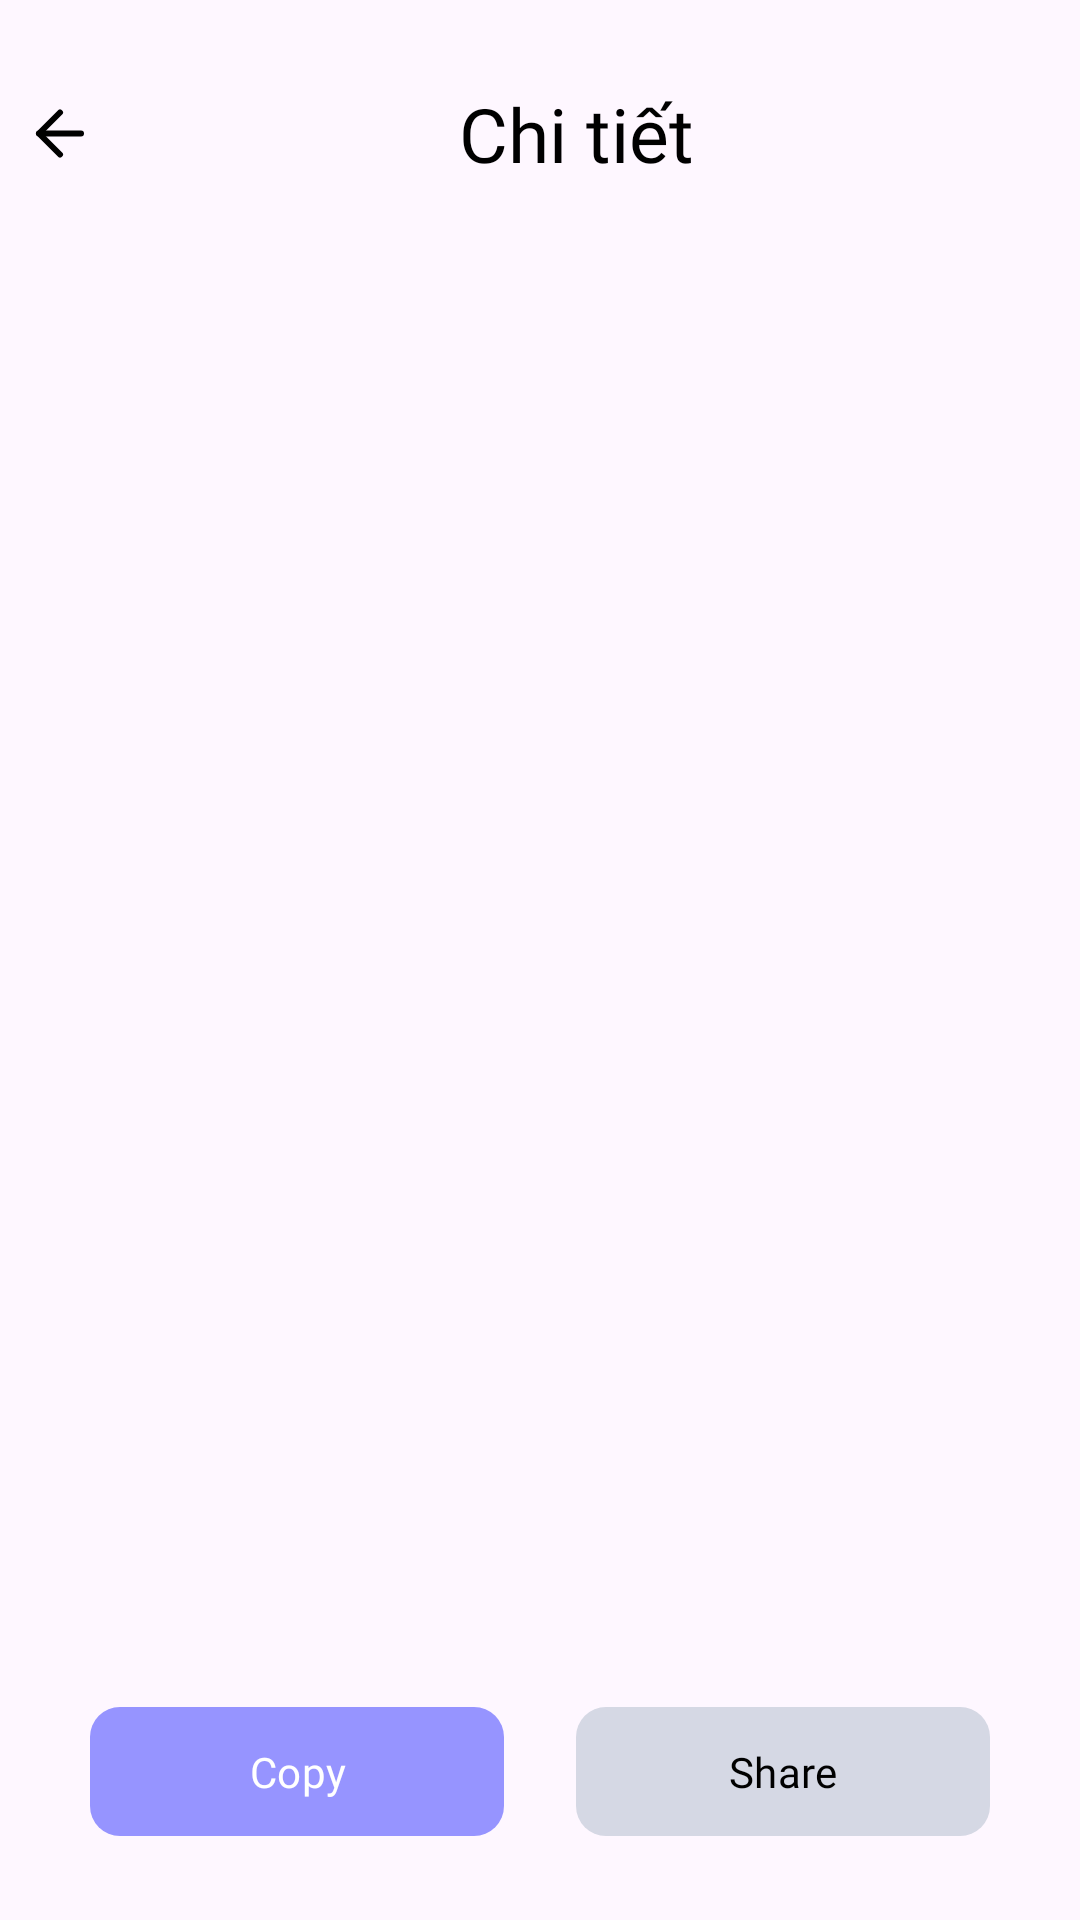

Locate icon controls on the screen. Image size 1080×1920, boxes as (x1,y1,x2,y2).
back: (35,109,84,158)
